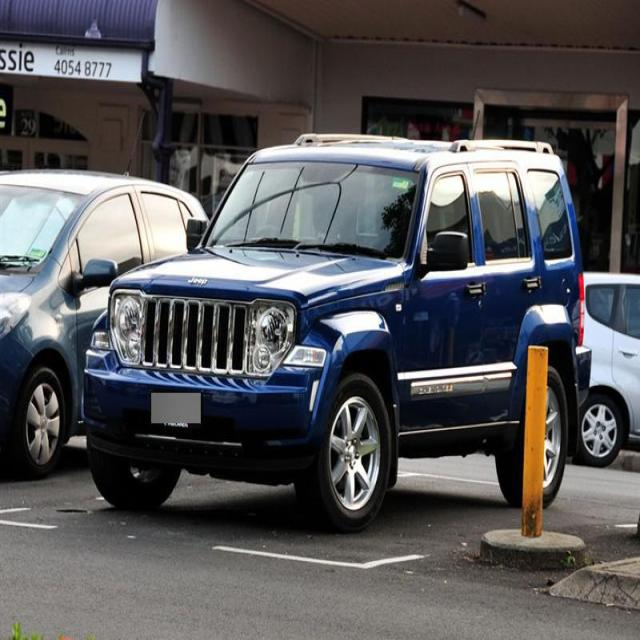back_left_side_light: (578, 270, 586, 343)
door: (467, 166, 545, 422)
front_bumper: (82, 343, 334, 475)
front_glass: (203, 158, 424, 261)
front_left_side_door: (402, 163, 484, 439)
front_left_side_mirror: (428, 226, 469, 279)
front_right_side_light: (105, 281, 144, 369)
front_right_side_mirror: (183, 213, 208, 255)
wheel: (314, 372, 392, 528), (498, 359, 568, 503)
